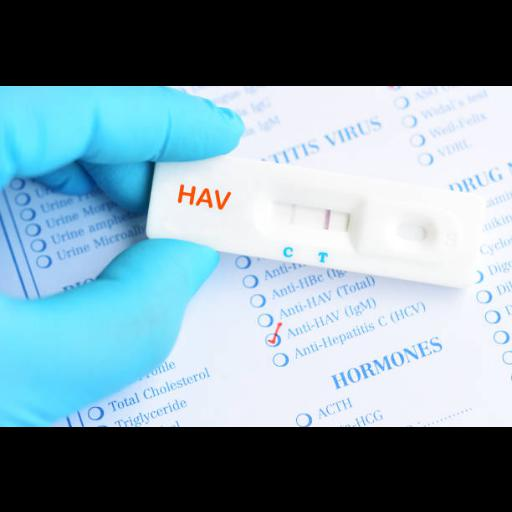Pos: (148, 145, 483, 289)
